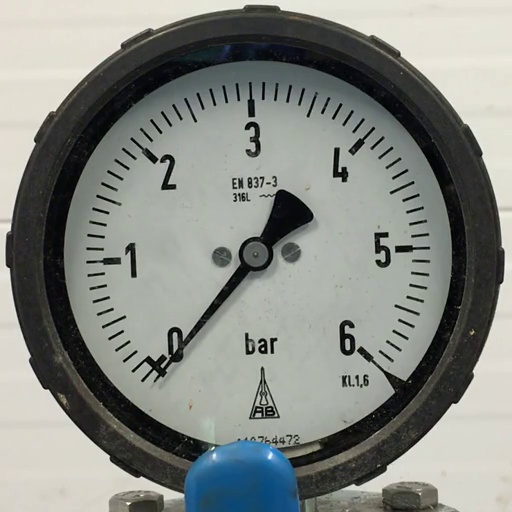base: (235, 235, 272, 273)
circle_plate: (59, 56, 467, 447)
maximum: (357, 346, 374, 362)
minimum: (141, 353, 167, 383)
number: (239, 116, 265, 161), (369, 226, 395, 271), (153, 150, 179, 193), (326, 142, 352, 184), (335, 315, 357, 356), (163, 324, 185, 364), (120, 240, 139, 282)
tip: (151, 378, 159, 385)
